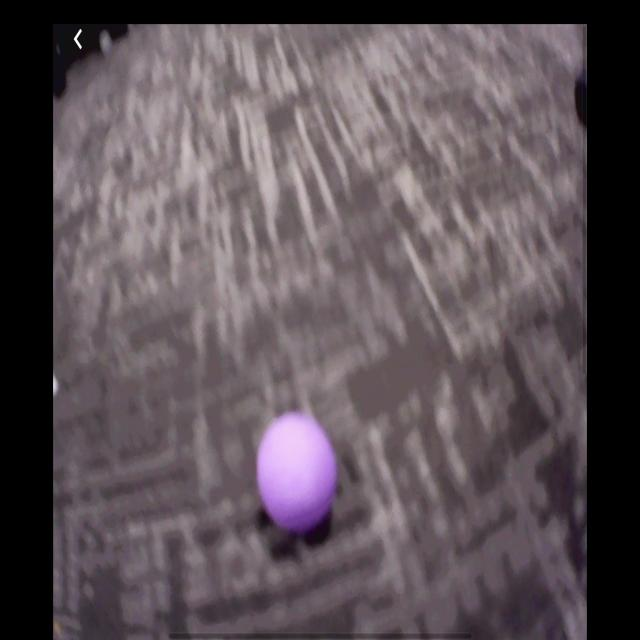ball: (256, 415, 339, 532)
